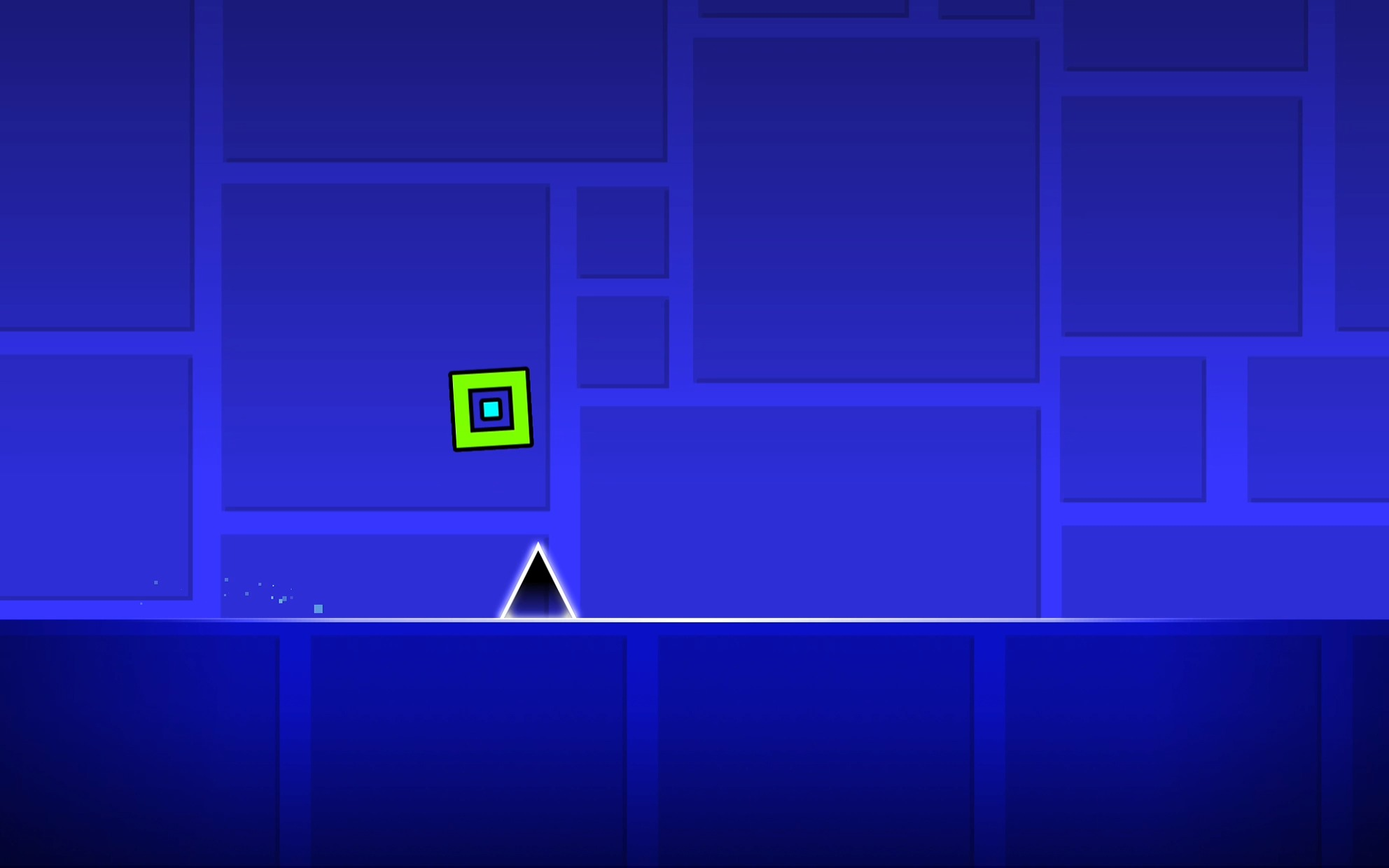Player: (449, 368, 533, 451)
Spike: (499, 544, 577, 618)
